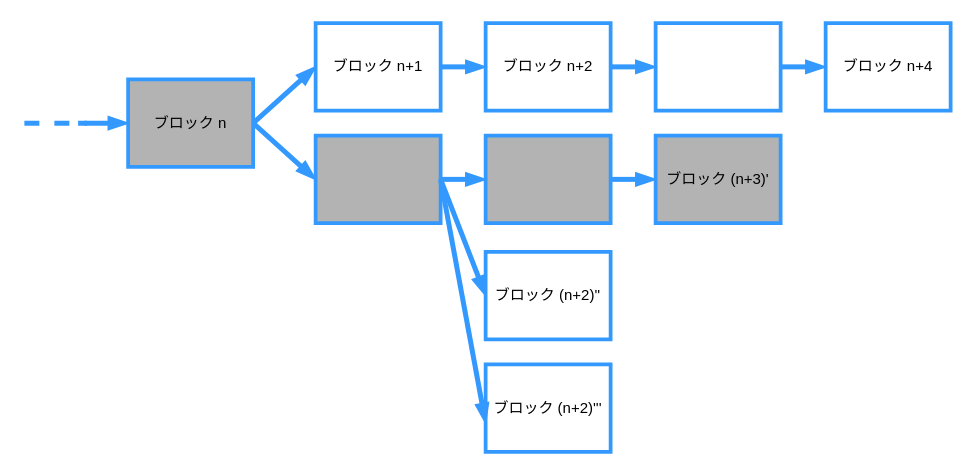
Some shapes in this 974 by 475 pixel diagram are drawn without their labels. The centre of each missing label's shape, as x and y in pixels:
ブロック (n+1)': [377,178]
ブロック (n+2)': [547,178]
ブロック n+3: [717,66]
